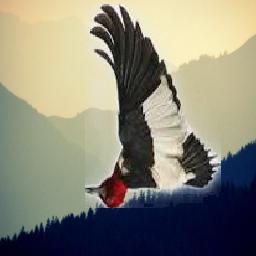Woodpecker: (85, 4, 221, 208)
